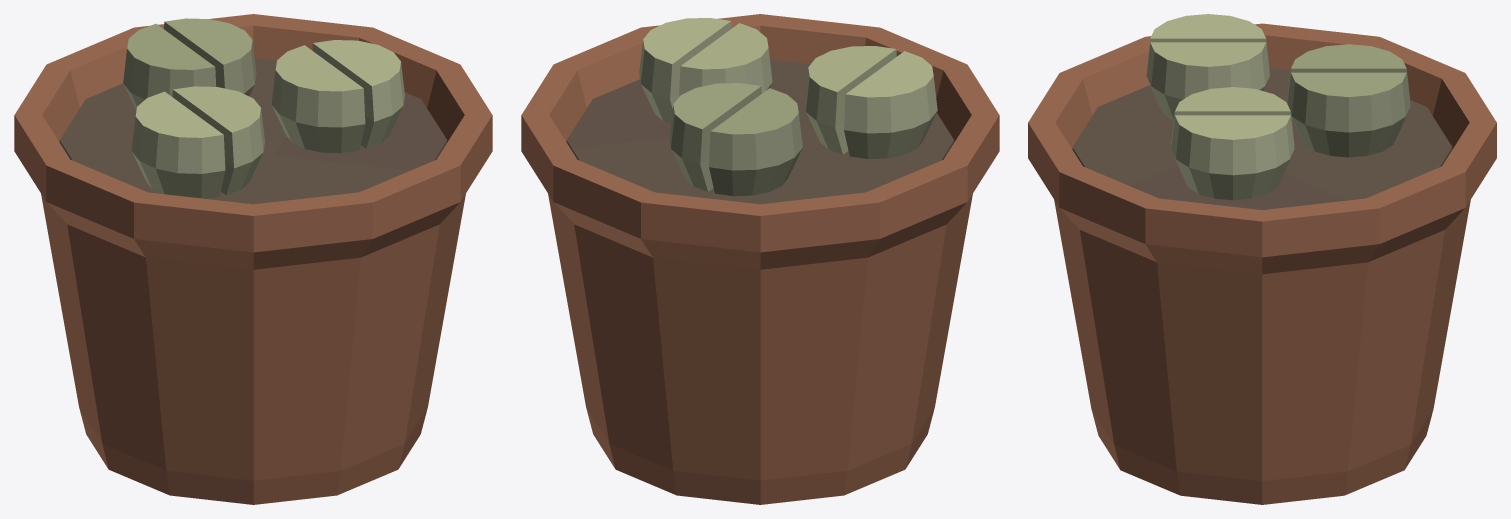
Rendered from new-lesliei.glb.
3 views of the same model, side by side, from view 1: azimuth 30°, elevation 25°; view 2: azimuth 150°, elevation 25°; view 3: azimuth 270°, elevation 25° (orthographic).
Visible parts, largest first — view 1: new-lesliei/review-terra-vessel, new-lesliei/review-rooted-soil, new-lesliei/fused-leaf-half-real-cleft-003, new-lesliei/fused-leaf-half-real-cleft-001, new-lesliei/fused-leaf-half-real-cleft-002, new-lesliei/fused-leaf-half-real-cleft-004, new-lesliei/fused-leaf-half-real-cleft-005, new-lesliei/fused-leaf-half-real-cleft-006; view 2: new-lesliei/review-terra-vessel, new-lesliei/review-rooted-soil, new-lesliei/fused-leaf-half-real-cleft-005, new-lesliei/fused-leaf-half-real-cleft-001, new-lesliei/fused-leaf-half-real-cleft-006, new-lesliei/fused-leaf-half-real-cleft-002, new-lesliei/fused-leaf-half-real-cleft-004, new-lesliei/fused-leaf-half-real-cleft-003; view 3: new-lesliei/review-terra-vessel, new-lesliei/review-rooted-soil, new-lesliei/fused-leaf-half-real-cleft-006, new-lesliei/fused-leaf-half-real-cleft-004, new-lesliei/fused-leaf-half-real-cleft-002, new-lesliei/fused-leaf-half-real-cleft-003, new-lesliei/fused-leaf-half-real-cleft-001, new-lesliei/fused-leaf-half-real-cleft-005.
Part boxes in pixels (<box>): new-lesliei/review-terra-vessel: <box>14,14,492,504</box>; new-lesliei/review-rooted-soil: <box>59,58,447,204</box>; new-lesliei/fused-leaf-half-real-cleft-003: <box>271,45,365,153</box>; new-lesliei/fused-leaf-half-real-cleft-001: <box>131,91,225,198</box>; new-lesliei/fused-leaf-half-real-cleft-002: <box>172,86,264,195</box>; new-lesliei/fused-leaf-half-real-cleft-004: <box>312,40,404,148</box>; new-lesliei/fused-leaf-half-real-cleft-005: <box>123,23,216,110</box>; new-lesliei/fused-leaf-half-real-cleft-006: <box>164,18,256,96</box>; new-lesliei/review-terra-vessel: <box>521,14,999,504</box>; new-lesliei/review-rooted-soil: <box>566,59,954,204</box>; new-lesliei/fused-leaf-half-real-cleft-005: <box>709,88,802,196</box>; new-lesliei/fused-leaf-half-real-cleft-001: <box>844,51,937,158</box>; new-lesliei/fused-leaf-half-real-cleft-006: <box>669,83,761,191</box>; new-lesliei/fused-leaf-half-real-cleft-002: <box>804,46,896,154</box>; new-lesliei/fused-leaf-half-real-cleft-004: <box>639,18,731,123</box>; new-lesliei/fused-leaf-half-real-cleft-003: <box>679,23,772,96</box>; new-lesliei/review-terra-vessel: <box>1028,23,1496,504</box>; new-lesliei/review-rooted-soil: <box>1072,67,1452,209</box>; new-lesliei/fused-leaf-half-real-cleft-006: <box>1287,72,1410,157</box>; new-lesliei/fused-leaf-half-real-cleft-004: <box>1171,115,1294,200</box>; new-lesliei/fused-leaf-half-real-cleft-002: <box>1146,42,1269,120</box>; new-lesliei/fused-leaf-half-real-cleft-003: <box>1171,87,1294,145</box>; new-lesliei/fused-leaf-half-real-cleft-001: <box>1146,14,1269,72</box>; new-lesliei/fused-leaf-half-real-cleft-005: <box>1287,44,1410,102</box>.
Size of the model in its own units: 0.19 by 0.159 by 0.19.
4 materials, 4 textured.
